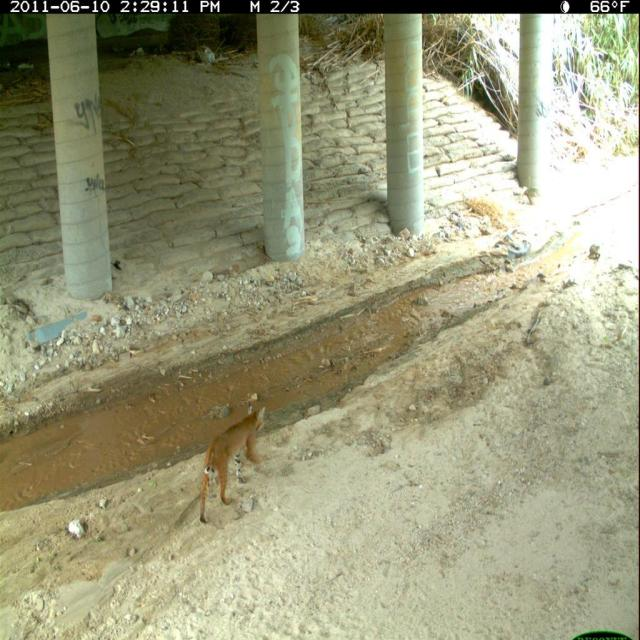bobcat: (196, 398, 272, 532)
